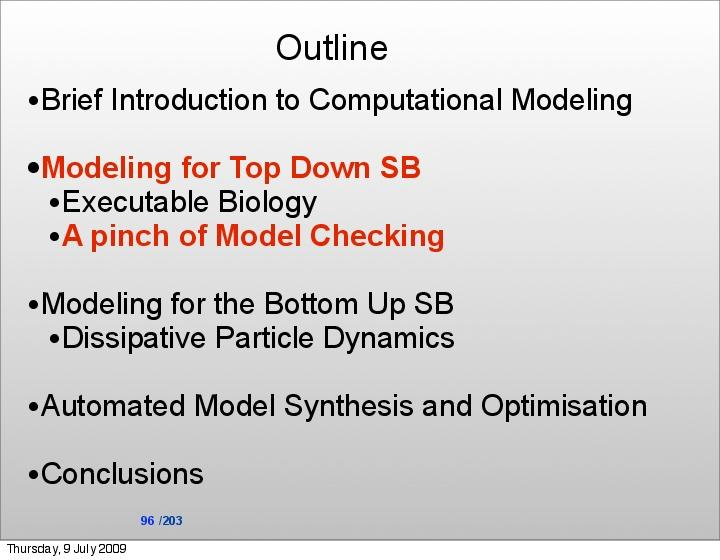paragraph: (21, 81, 704, 501)
title: (272, 16, 405, 70)
